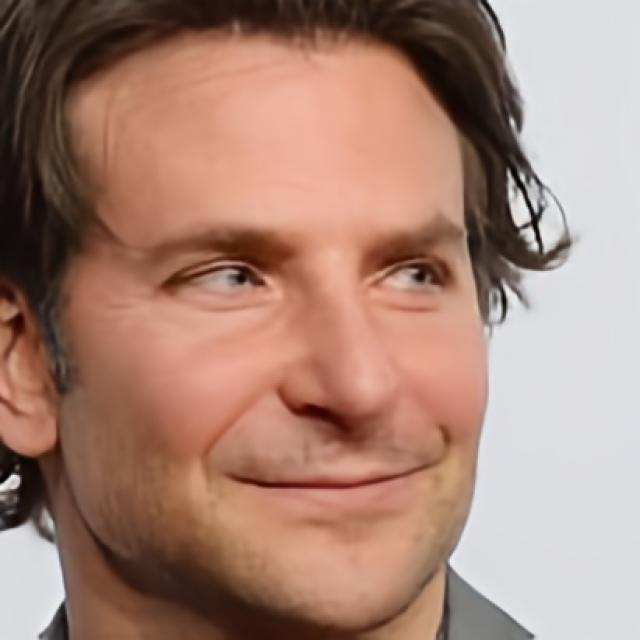happy: (58, 20, 498, 640)
